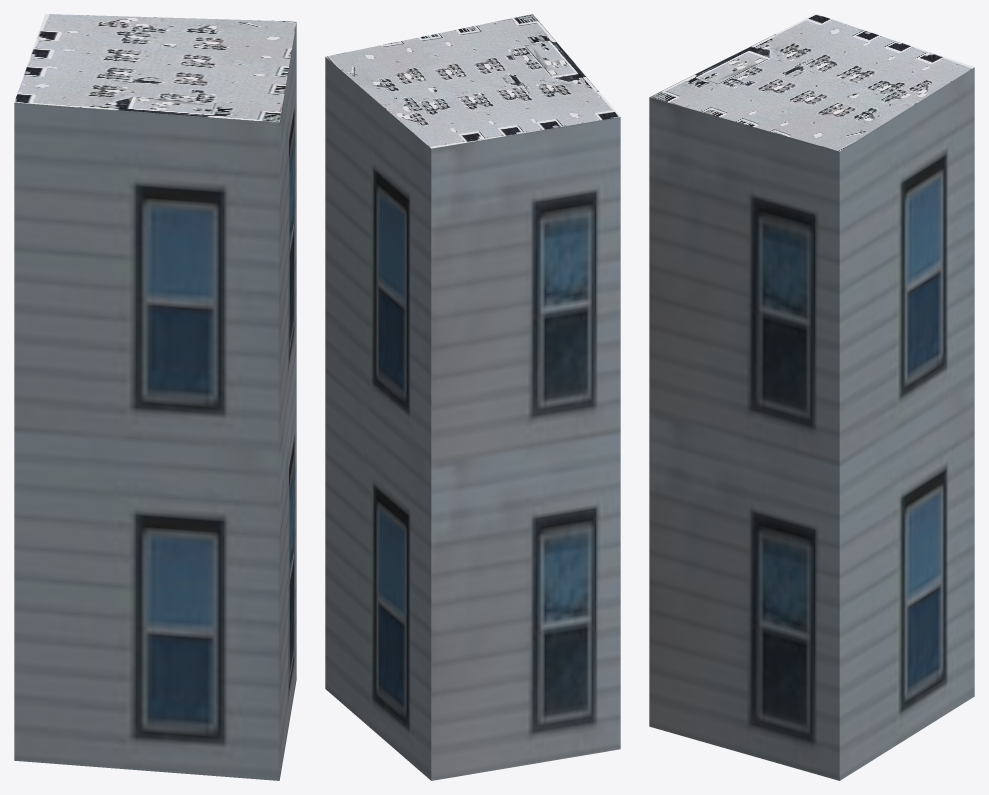
Rendered from ResTex__2295.fbx.
3 renders of one model, left to right at view 1: azimuth 30°, elevation 25°; view 2: azimuth 150°, elevation 25°; view 3: azimuth 270°, elevation 25°, orthographic. The views are drawn at different scales.
Visible parts, largest first — view 1: CityEngineMaterial_18_m, CityEngineMaterial_4_m; view 2: CityEngineMaterial_18_m, CityEngineMaterial_4_m; view 3: CityEngineMaterial_18_m, CityEngineMaterial_4_m.
Part boxes in pixels (left/top/right/bottom): CityEngineMaterial_18_m: left=14, top=22, right=296, bottom=780; CityEngineMaterial_4_m: left=14, top=14, right=296, bottom=122; CityEngineMaterial_18_m: left=325, top=57, right=620, bottom=780; CityEngineMaterial_4_m: left=326, top=14, right=620, bottom=148; CityEngineMaterial_18_m: left=649, top=67, right=974, bottom=780; CityEngineMaterial_4_m: left=649, top=14, right=974, bottom=151.
Bounding box in the file's own units: 2.81 × 6 × 2.81.
Materials: 2 (2 with a texture image).
